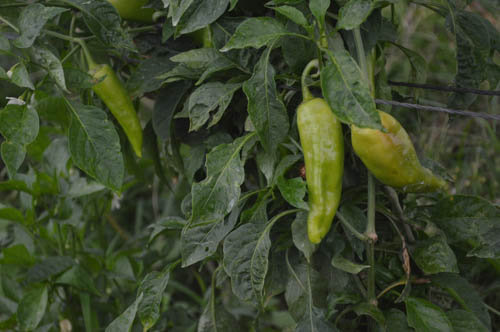ChiliPepper: (294, 99, 344, 245), (355, 112, 445, 191), (91, 64, 146, 153)
